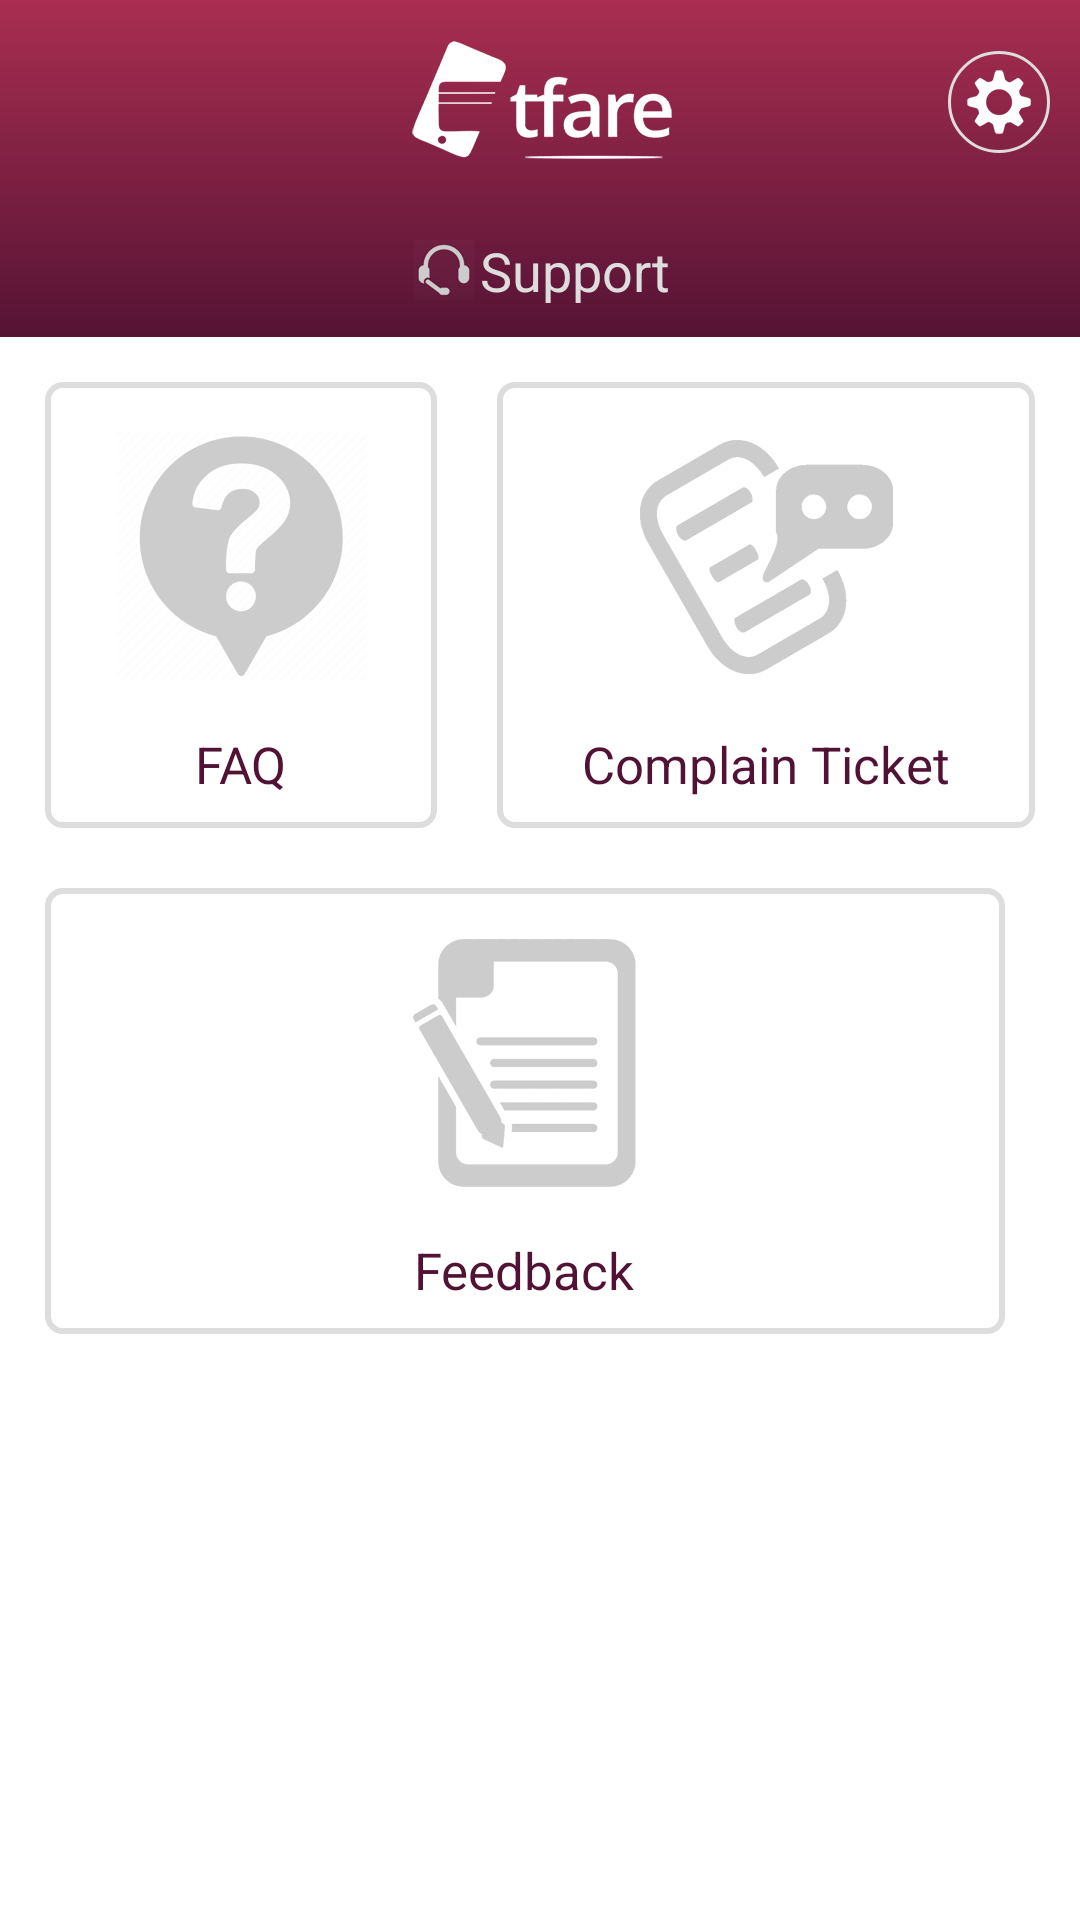

Named icons in this screenshot (1080*1920) and their bounding boxes, {"left": x1, "top": y1, "right": x2, "bottom": y2}:
settings: {"left": 948, "top": 51, "right": 1050, "bottom": 153}
